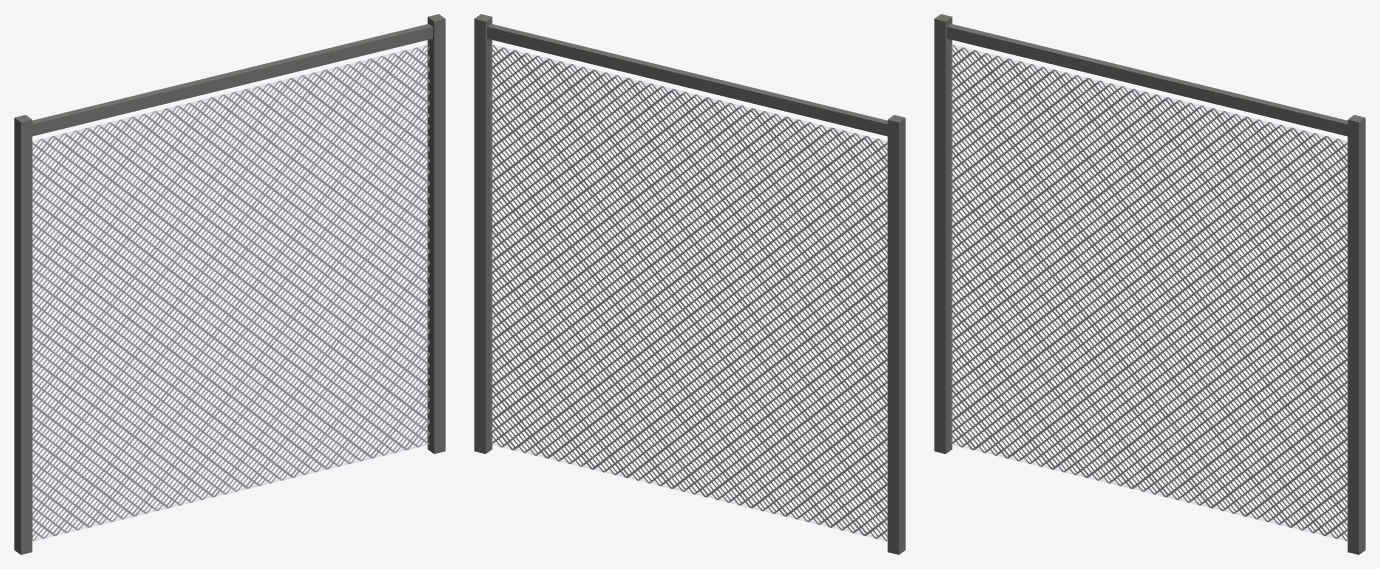
Rendered from fence_chain_tall.glb.
3 renders of one model, left to right at view 1: azimuth 30°, elevation 25°; view 2: azimuth 150°, elevation 25°; view 3: azimuth 330°, elevation 25°, orthographic.
Parts seen in each view (by area): view 1: chainmesh_245, chainpost-col_242, chainpost-col_243, chainrail-col_244; view 2: chainmesh_245, chainpost-col_242, chainpost-col_243, chainrail-col_244; view 3: chainmesh_245, chainpost-col_243, chainpost-col_242, chainrail-col_244.
Boxes of the visible parts, x1,y1,x2,y2 form: chainmesh_245: (32,45,429,541); chainpost-col_242: (14,115,32,554); chainpost-col_243: (427,14,445,453); chainrail-col_244: (32,24,432,136); chainmesh_245: (490,45,887,541); chainpost-col_242: (887,115,905,554); chainpost-col_243: (474,14,492,453); chainrail-col_244: (487,24,887,136); chainmesh_245: (950,45,1347,541); chainpost-col_243: (1347,115,1365,554); chainpost-col_242: (934,14,952,453); chainrail-col_244: (947,24,1347,136).
Size of the model in its own units: 1.85 by 1.8 by 0.05.
Materials: 2 (1 with a texture image).
